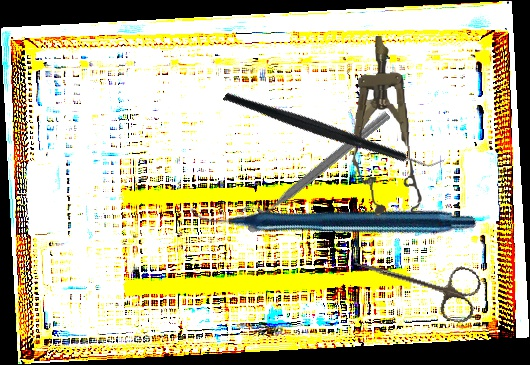Chopper: (222, 25, 447, 232)
Fixation Ring: (235, 99, 394, 236)
Handpiece: (188, 77, 479, 354)
Iris Scissors: (346, 239, 484, 326)
Speculum: (343, 33, 427, 218)
